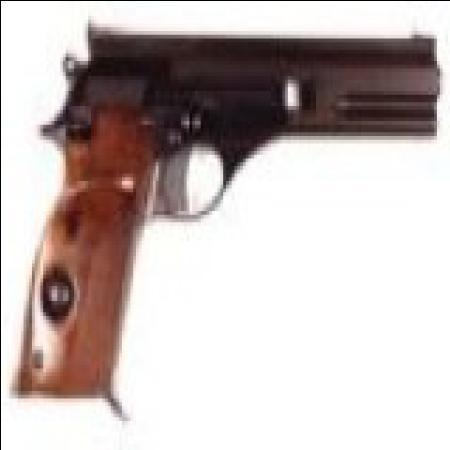Pistol: (20, 30, 444, 398)
